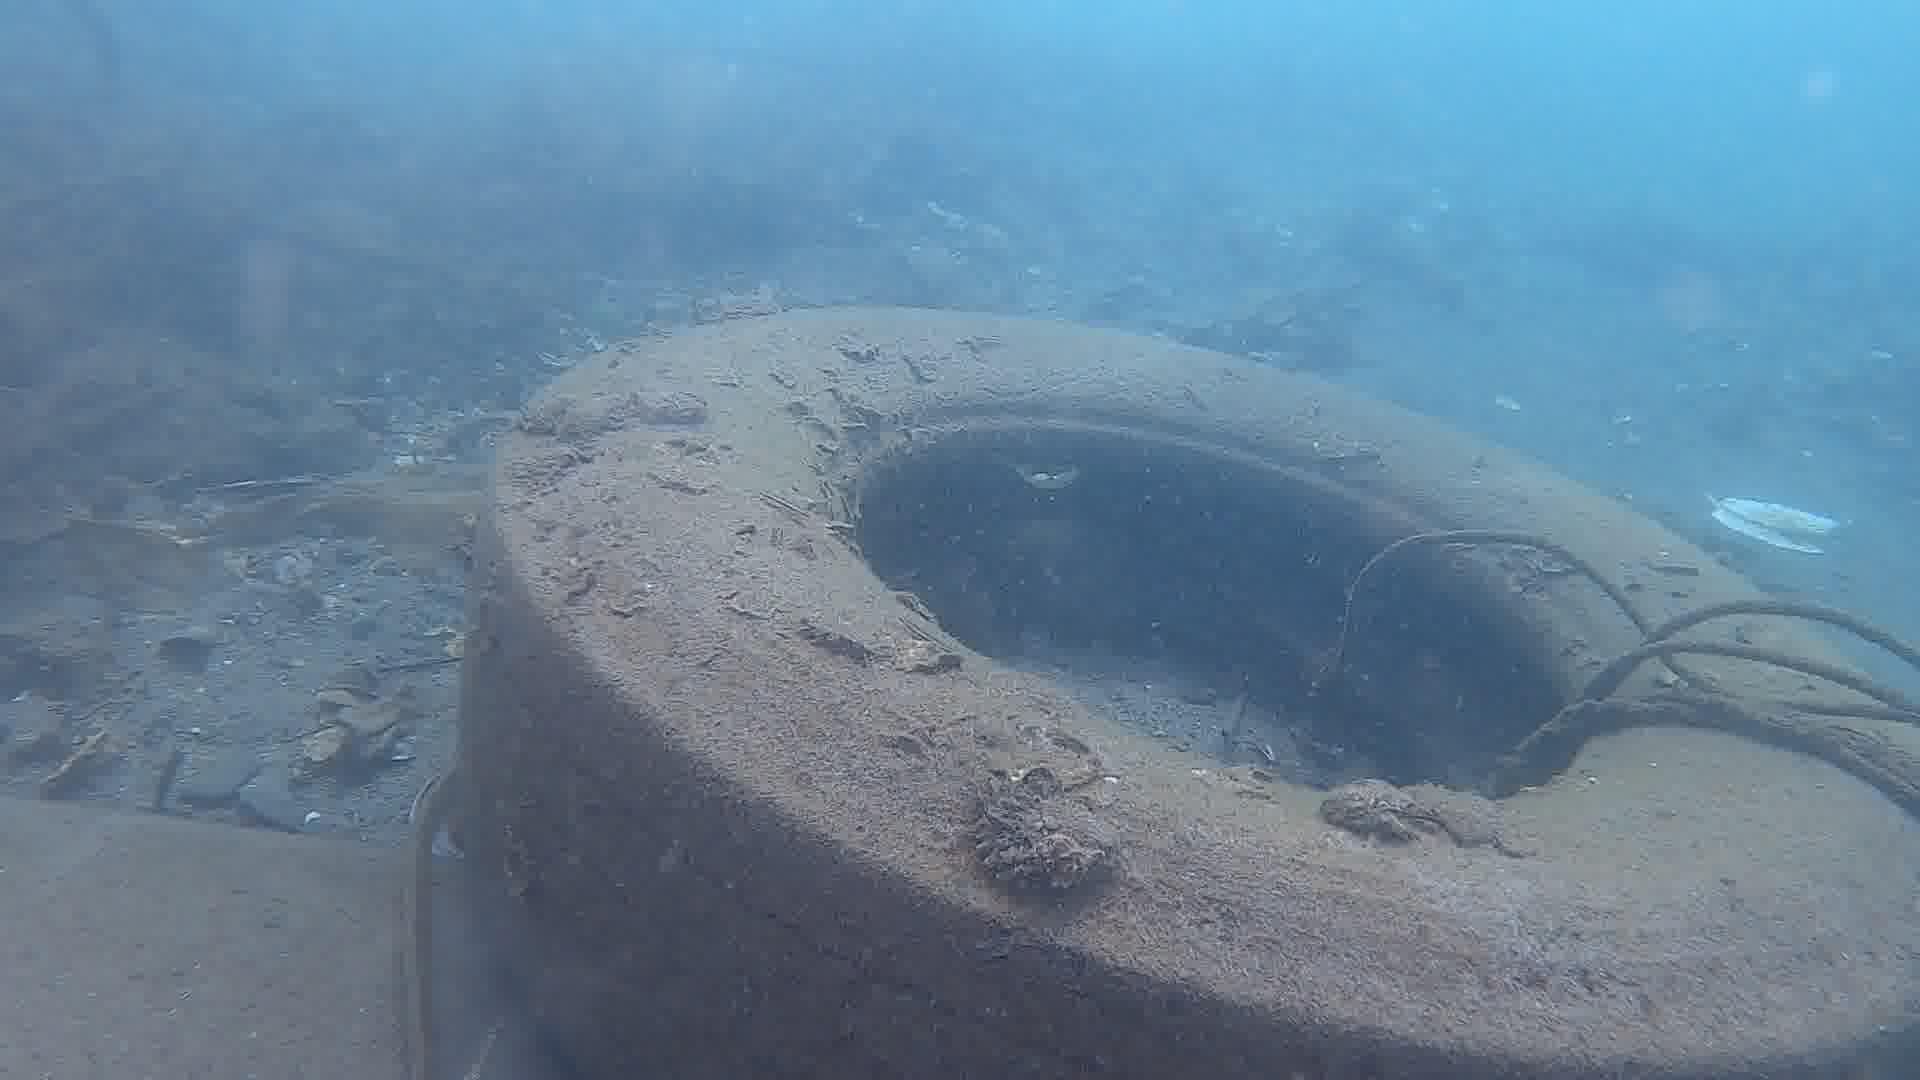bundle of ropes: (1336, 525, 1920, 819)
tire: (455, 305, 1920, 1080)
